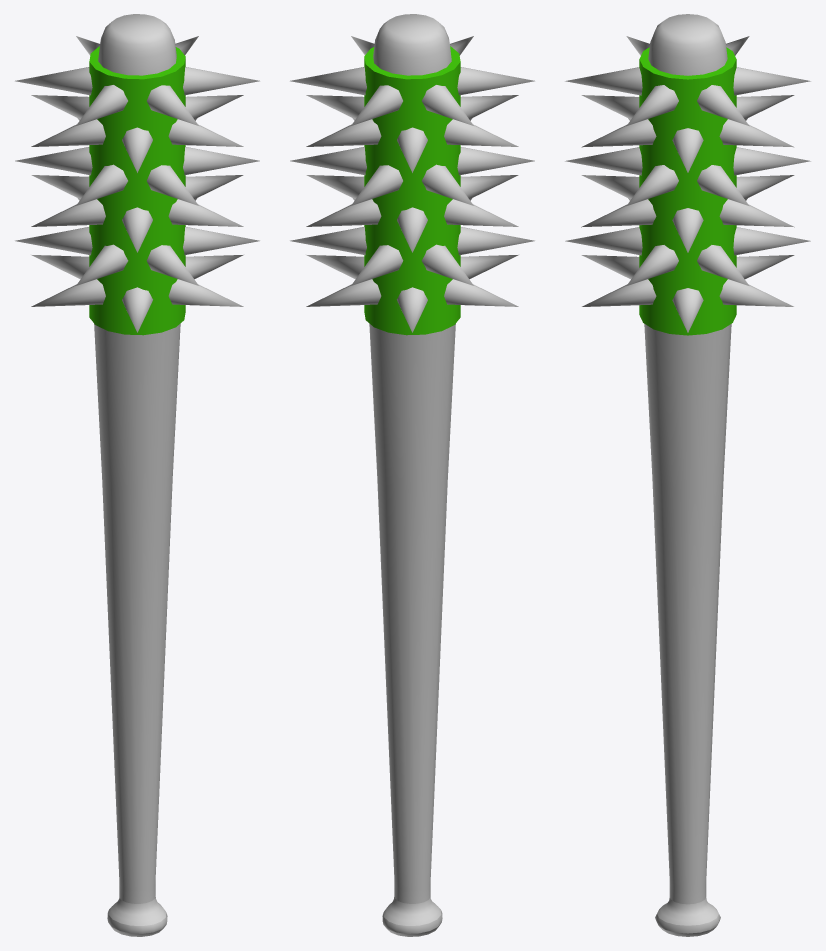
The model's file is BatePuas(no tocar).fbx.
3 renders of one model, left to right at view 1: azimuth 30°, elevation 25°; view 2: azimuth 150°, elevation 25°; view 3: azimuth 270°, elevation 25°, orthographic.
Parts seen in each view (by area): view 1: Cylinder; view 2: Cylinder; view 3: Cylinder.
Part boxes in pixels (x1,y1,x2,y2): Cylinder: (15,14,259,936); Cylinder: (290,14,534,936); Cylinder: (565,14,810,936).
Bounding box in the file's own units: 28 × 113 × 28.
